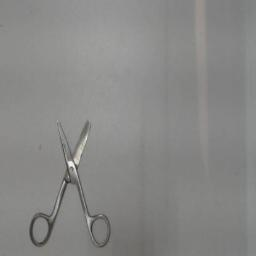Dressing Scissors: (24, 107, 114, 253)
